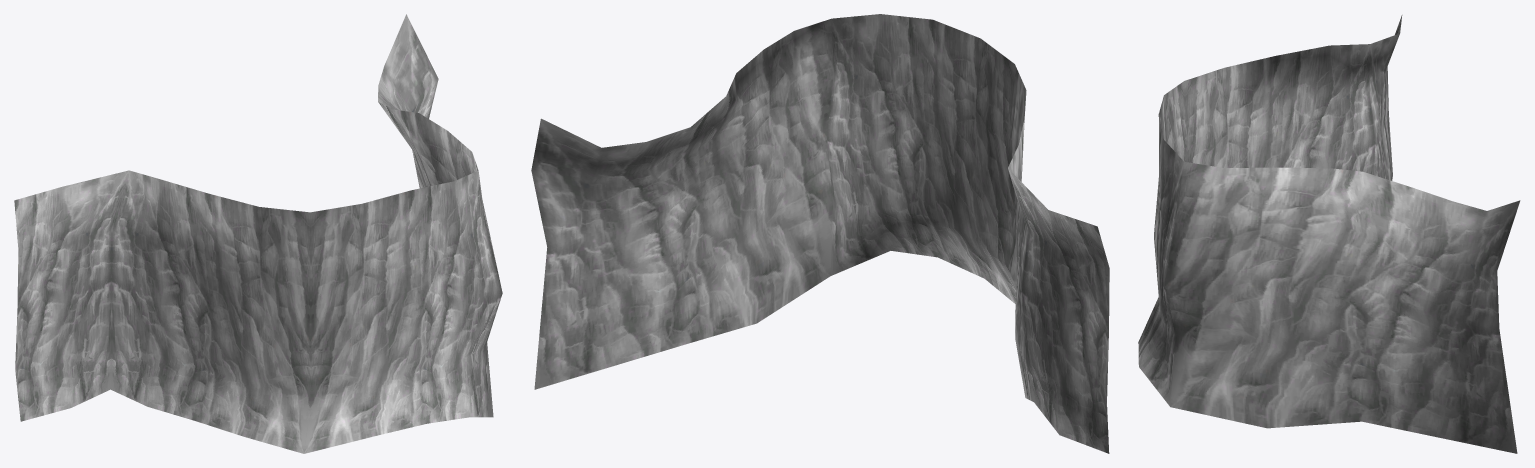
Rendered from SWORDLIGHT20_PS-AREA03_178.fbx.
3 views of the same model, side by side, from view 1: azimuth 30°, elevation 25°; view 2: azimuth 150°, elevation 25°; view 3: azimuth 270°, elevation 25° (orthographic). The views are drawn at different scales.
Parts seen in each view (by area): view 1: SWORDLIGHT20_PS-AREA03_178; view 2: SWORDLIGHT20_PS-AREA03_178; view 3: SWORDLIGHT20_PS-AREA03_178.
Boxes of the visible parts, left/top/right/bottom form: SWORDLIGHT20_PS-AREA03_178: left=14, top=14, right=502, bottom=453; SWORDLIGHT20_PS-AREA03_178: left=531, top=14, right=1109, bottom=453; SWORDLIGHT20_PS-AREA03_178: left=1138, top=15, right=1520, bottom=453.
Size of the model in its own units: 103457 by 55057 by 72517.
1 material, 1 textured.
